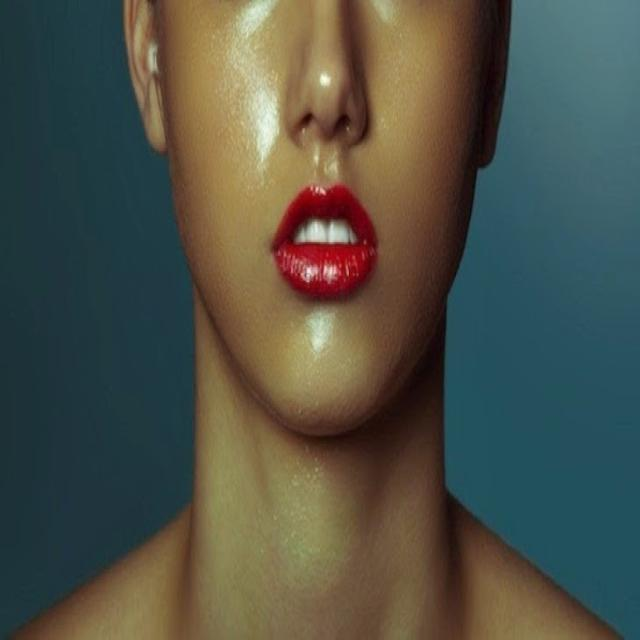oily: (216, 2, 283, 194), (314, 3, 341, 107), (306, 308, 336, 362), (371, 0, 407, 28)
